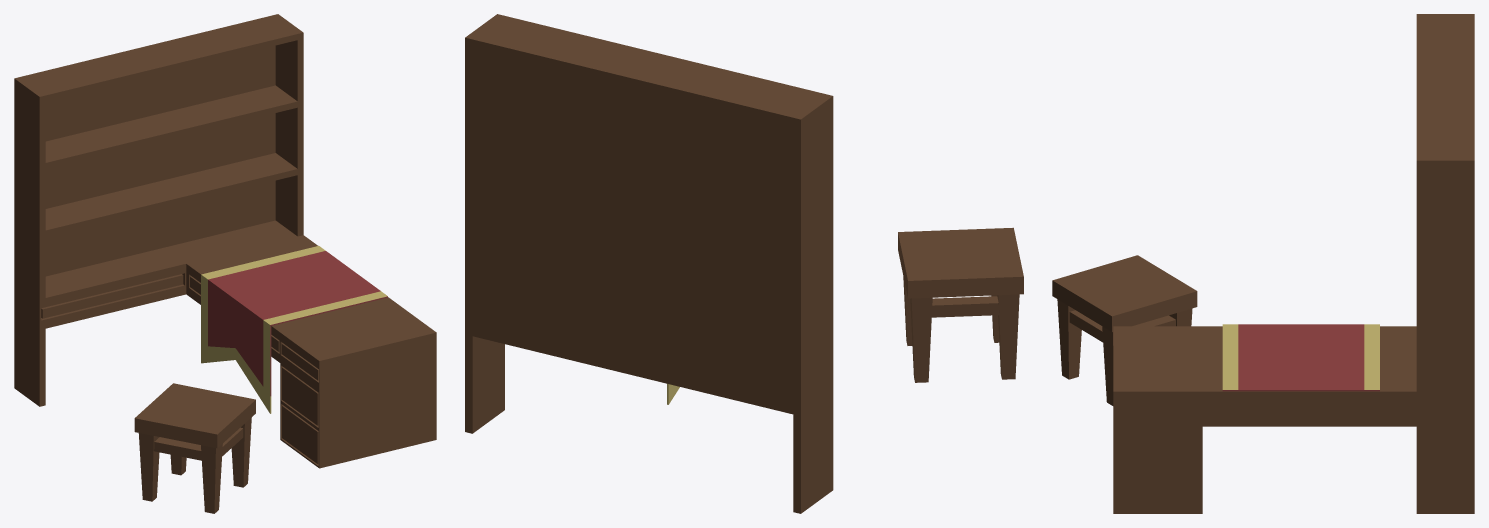
The model's file is desk.fbx.
The picture shows the model from 3 angles, left to right: view 1: azimuth 30°, elevation 25°; view 2: azimuth 150°, elevation 25°; view 3: azimuth 270°, elevation 25°; orthographic projection. The views are drawn at different scales.
Visible parts, largest first — view 1: Desk, Tapis, Chair; view 2: Desk, Chair; view 3: Desk, Tapis, Chair.
Boxes of the visible parts, x1,y1,x2,y2 form: Desk: (14, 14, 436, 468); Tapis: (201, 246, 387, 413); Chair: (134, 383, 255, 513); Desk: (465, 14, 833, 513); Chair: (898, 227, 1023, 382); Desk: (1113, 14, 1474, 513); Tapis: (1222, 324, 1379, 391); Chair: (1052, 255, 1197, 405).
Bounding box in the file's own units: 12.18 × 12.38 × 13.41.
